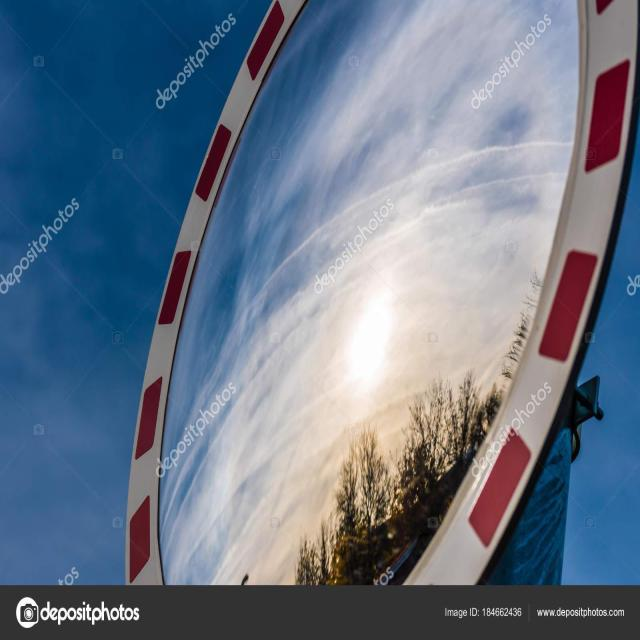other: (303, 232, 446, 448)
